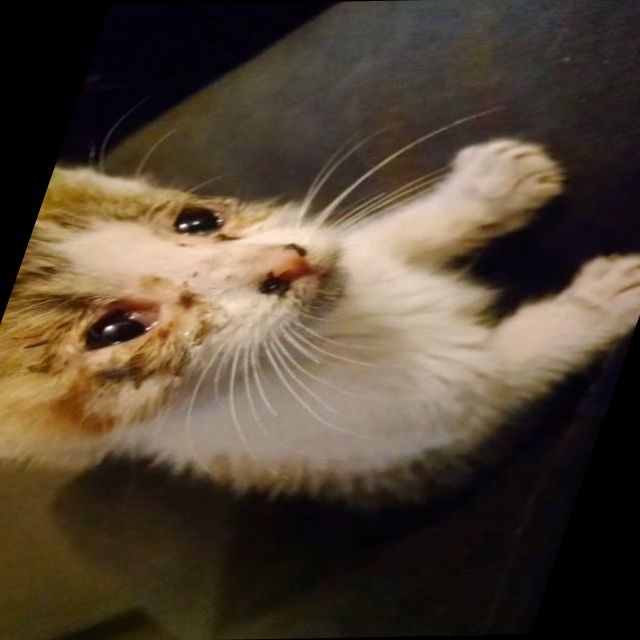eye_infection: (83, 288, 173, 351), (167, 194, 239, 249)
